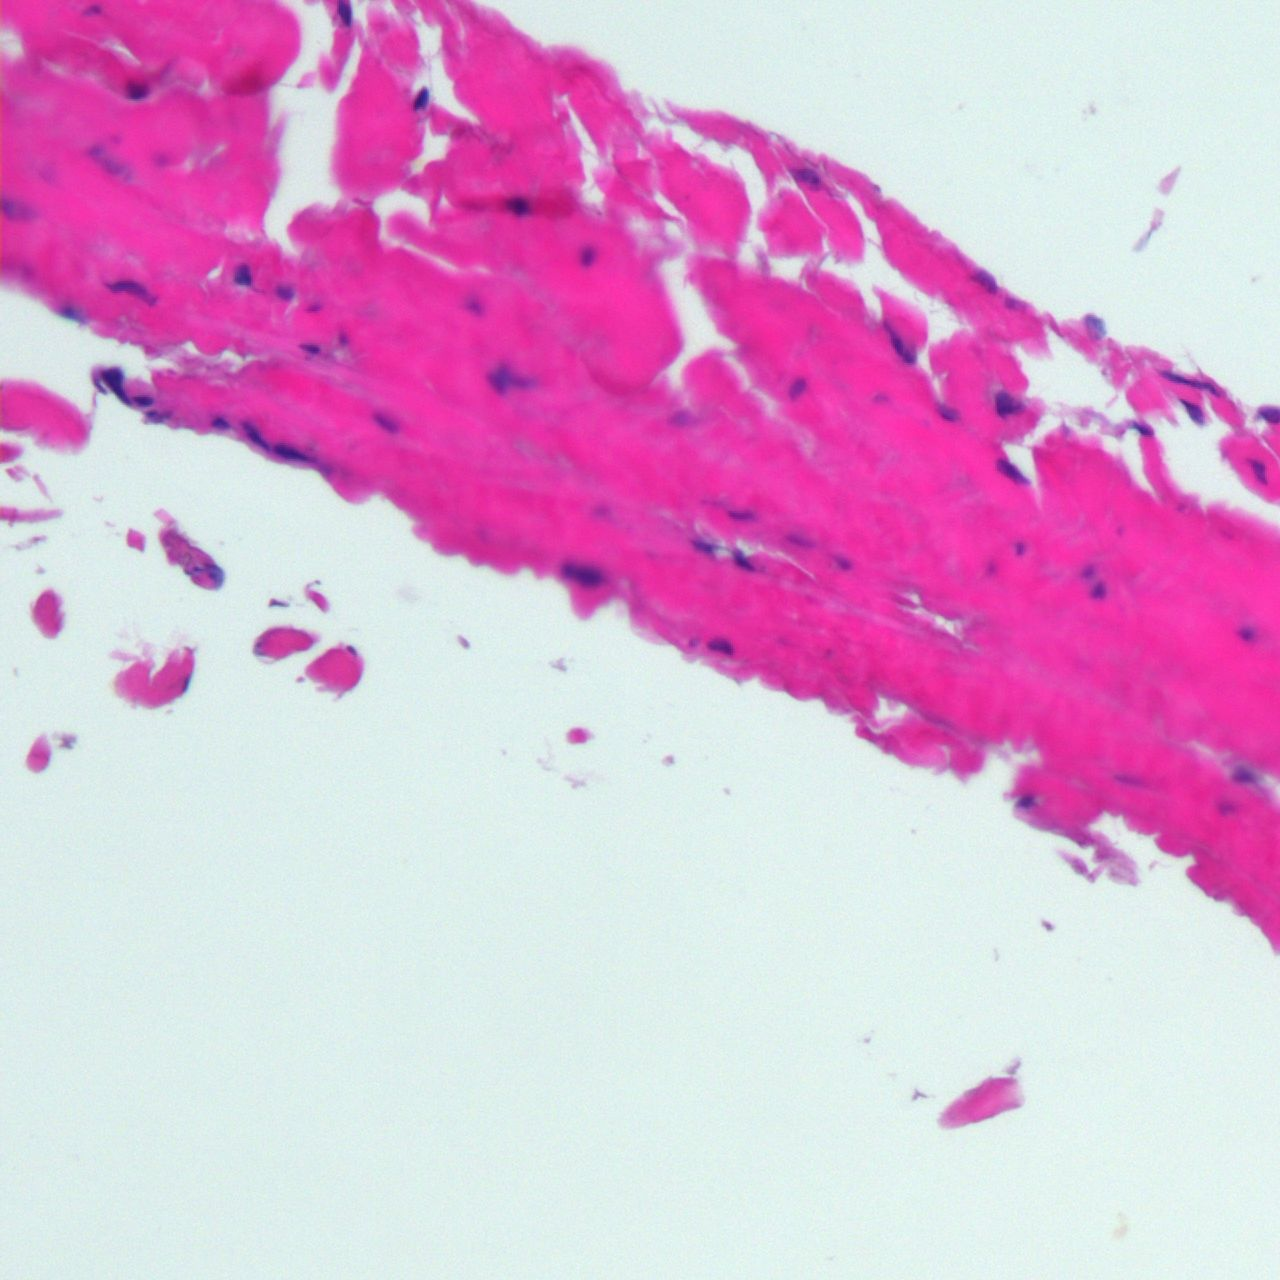nucleus-HE: (98, 270, 165, 311), (485, 359, 539, 401), (554, 553, 608, 594), (95, 356, 136, 408), (877, 316, 917, 369), (1157, 370, 1220, 395), (994, 456, 1034, 493), (236, 418, 273, 455), (967, 263, 1003, 299), (666, 406, 721, 428), (53, 298, 90, 328), (1244, 452, 1275, 488), (369, 406, 401, 440), (1177, 393, 1208, 427), (703, 629, 738, 659), (1, 196, 35, 222), (994, 392, 1024, 420), (727, 545, 755, 576), (1112, 770, 1150, 792), (781, 374, 809, 403), (779, 529, 815, 550), (272, 443, 313, 461), (122, 77, 152, 101), (409, 84, 433, 115), (792, 165, 824, 188), (1230, 764, 1259, 784), (1012, 791, 1037, 813), (576, 241, 597, 267), (230, 263, 252, 286), (462, 293, 483, 316), (587, 499, 608, 523), (154, 147, 178, 166), (934, 401, 955, 423), (727, 506, 758, 520), (271, 282, 294, 301), (1131, 418, 1155, 437), (508, 197, 532, 215), (692, 539, 724, 552), (1085, 580, 1107, 599), (1216, 799, 1241, 815), (1235, 622, 1254, 641), (210, 415, 229, 433), (869, 390, 888, 407), (832, 556, 853, 571), (144, 408, 169, 421), (335, 324, 348, 345), (338, 1, 349, 23), (297, 341, 321, 352), (1078, 563, 1094, 579), (132, 394, 154, 406), (81, 4, 103, 14), (304, 302, 324, 313), (1012, 540, 1024, 554)
